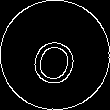O_N: (27, 24, 83, 86)
